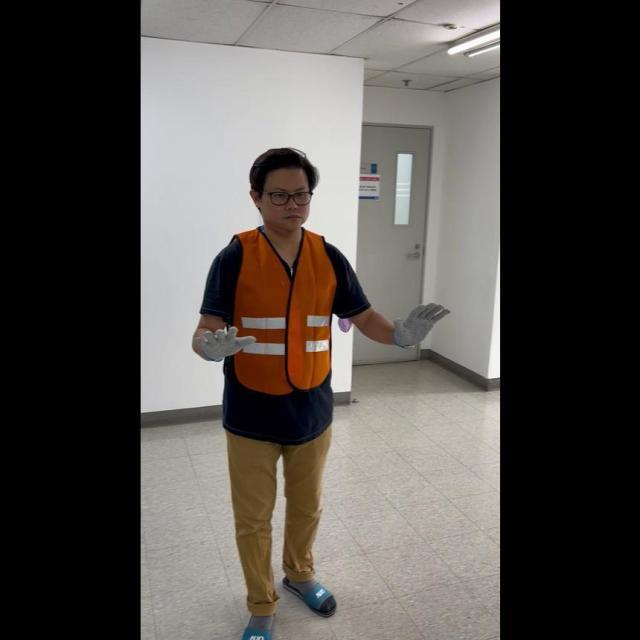gloved_hand: (389, 296, 447, 349), (191, 320, 255, 362)
